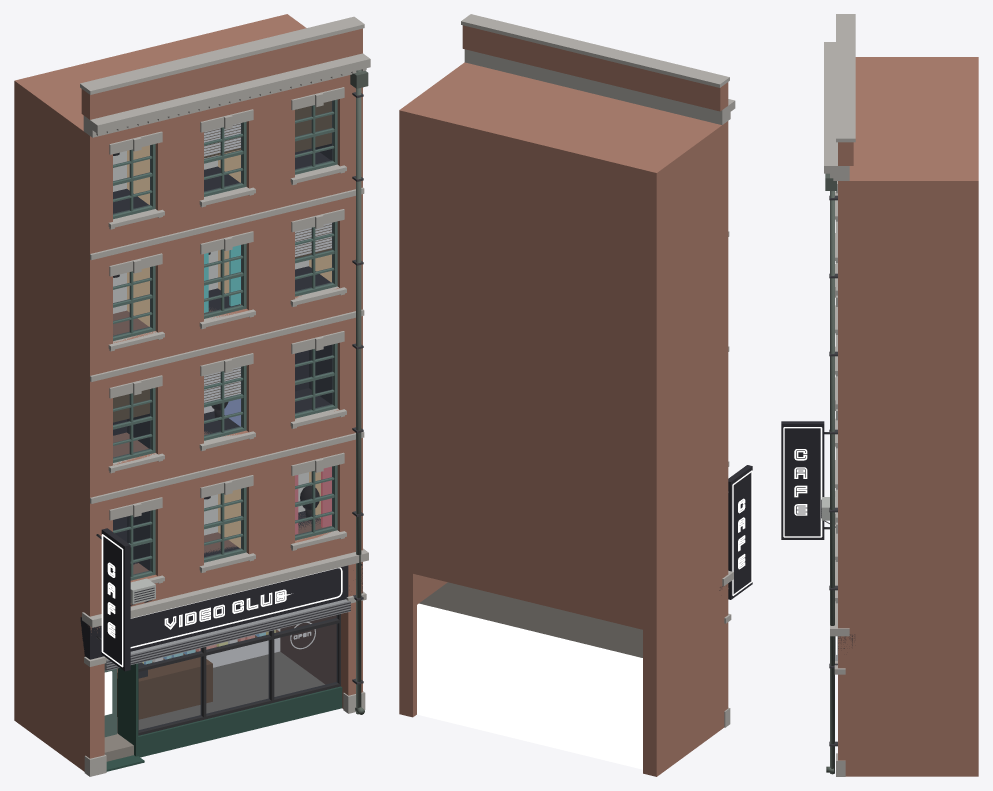
The model's file is bldg_7.glb.
3 renders of one model, left to right at view 1: azimuth 30°, elevation 25°; view 2: azimuth 150°, elevation 25°; view 3: azimuth 270°, elevation 25°, orthographic. The views are drawn at different scales.
Visible parts, largest first — view 1: bldg_7; view 2: bldg_7; view 3: bldg_7.
Part boxes in pixels (<box>): bldg_7: <box>14,14,370,776</box>; bldg_7: <box>399,14,752,776</box>; bldg_7: <box>781,14,978,776</box>.
Bounding box in the file's own units: 7.6 × 18 × 5.05.
